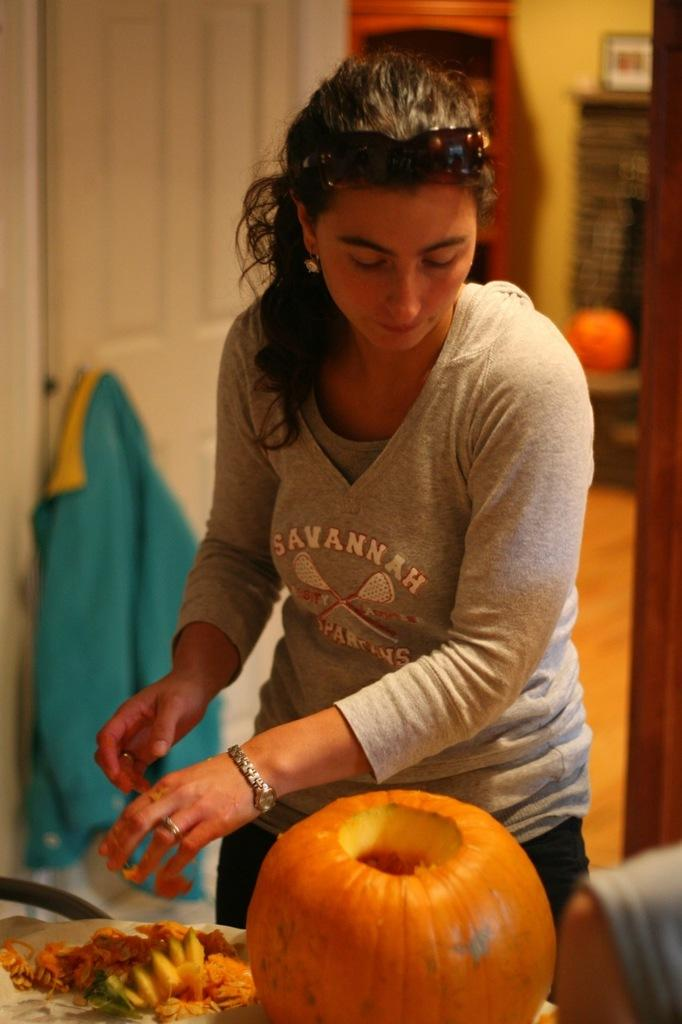no_helmet: (270, 52, 463, 252)
none: (213, 248, 522, 856)
